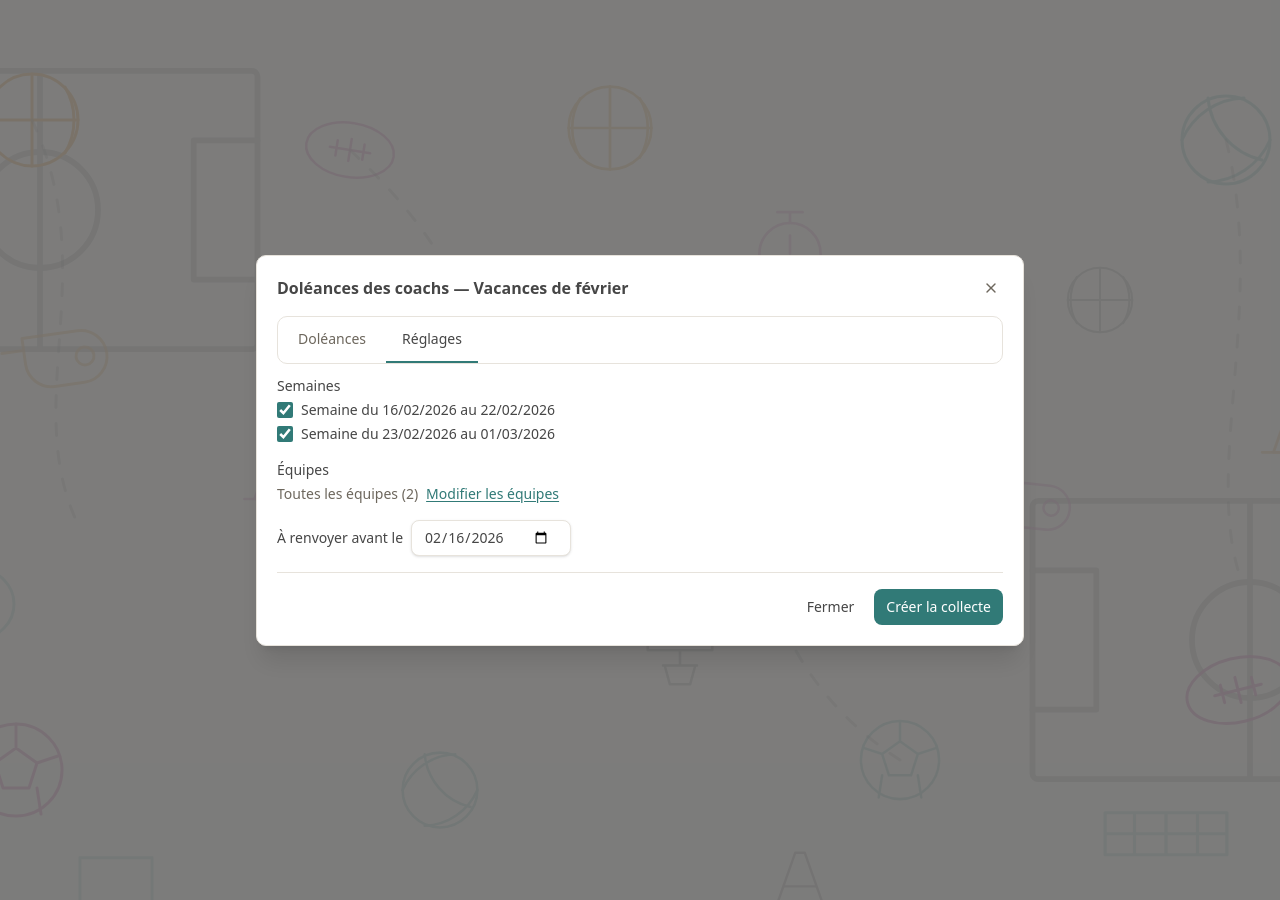
CoachWishesHub › permet de tout décocher puis de tout recocher d'un geste
Click the button "Modifier les équipes": (493, 494) [426, 484, 559, 504]
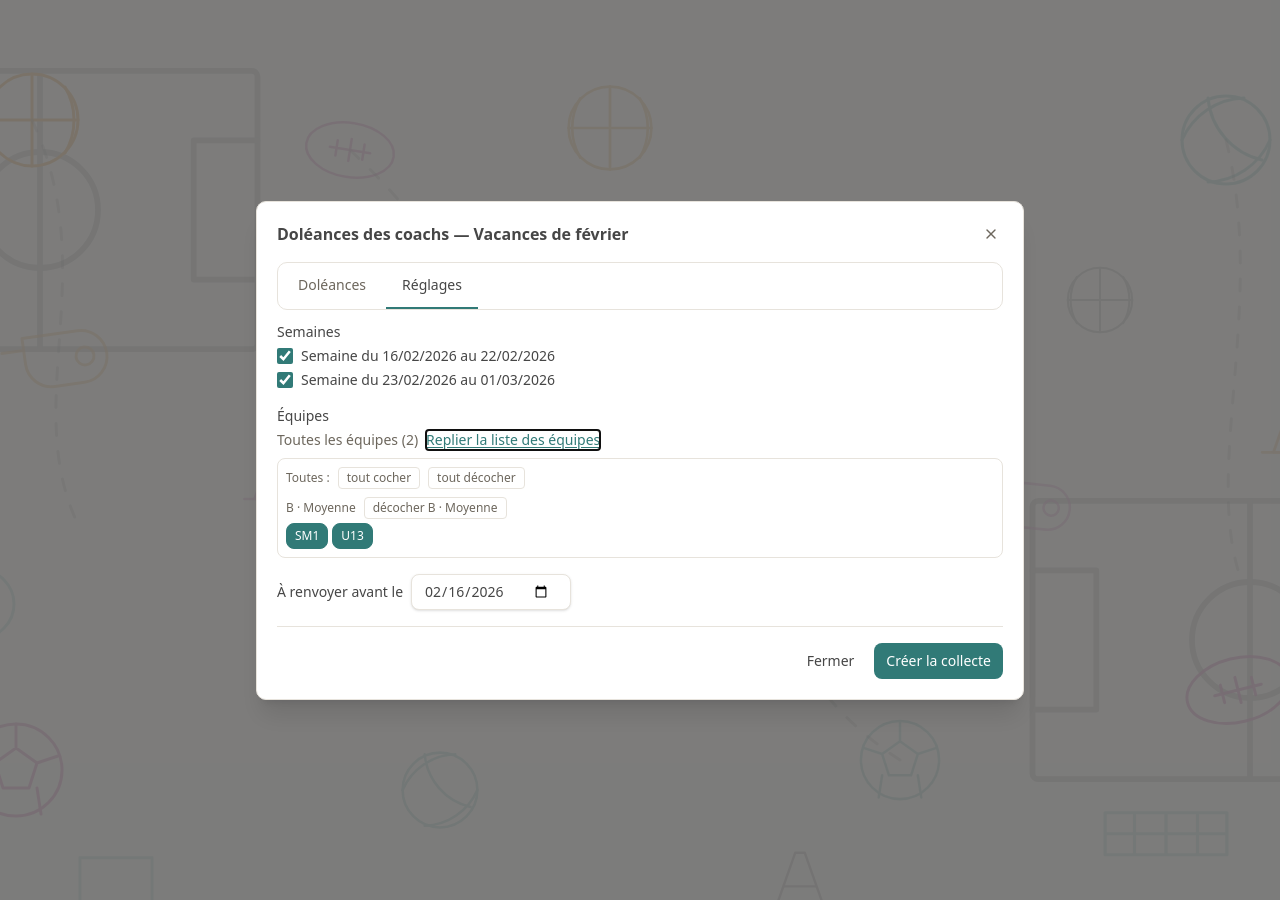
Click the button "tout décocher": (476, 478) [428, 466, 525, 488]
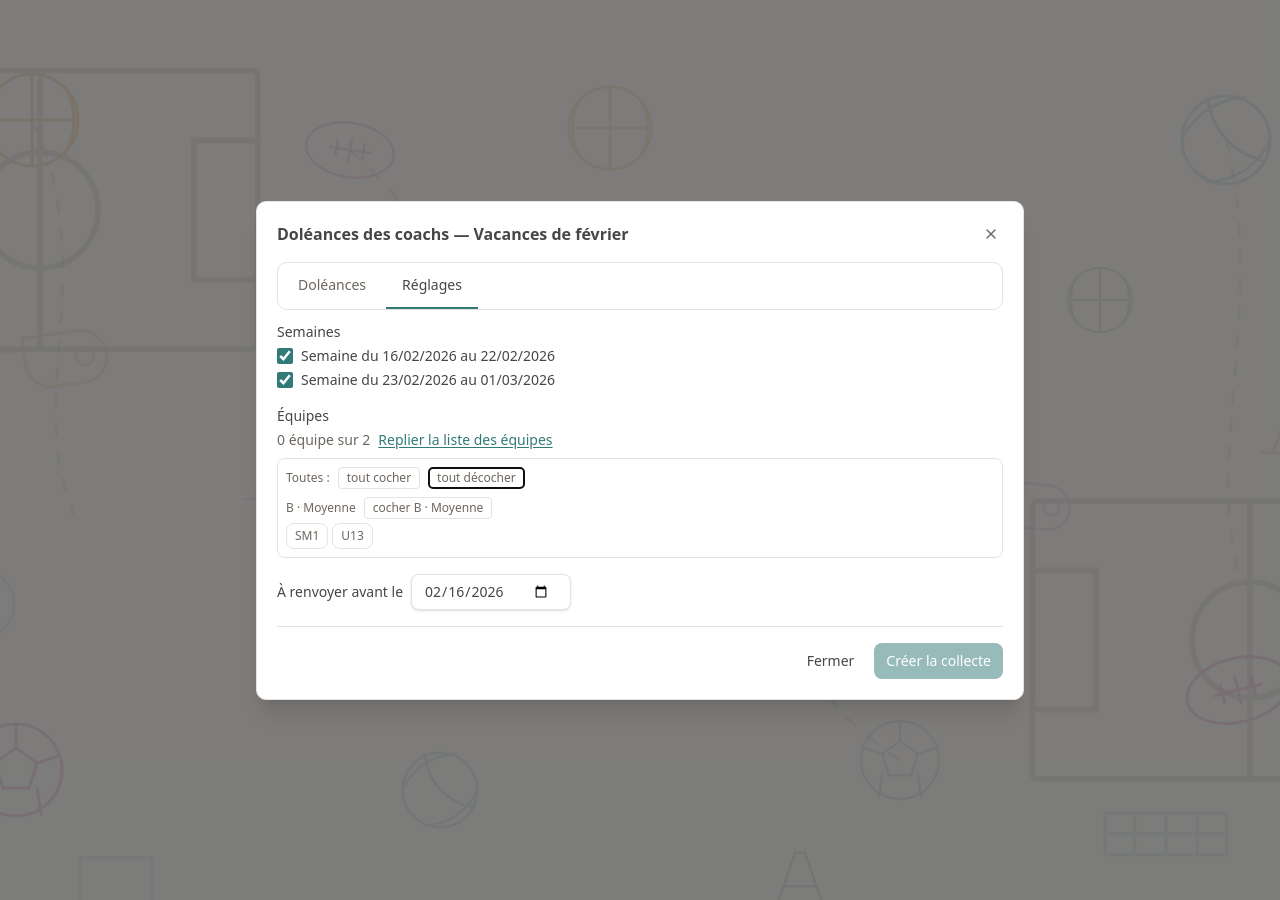
expect the text "0 équipe sur 2" is shown: met, box [277, 430, 370, 450]
expect the button "Créer la collecte" is disabled: met, box [874, 642, 1003, 678]
Click the button "tout cocher": (379, 478) [338, 466, 420, 488]
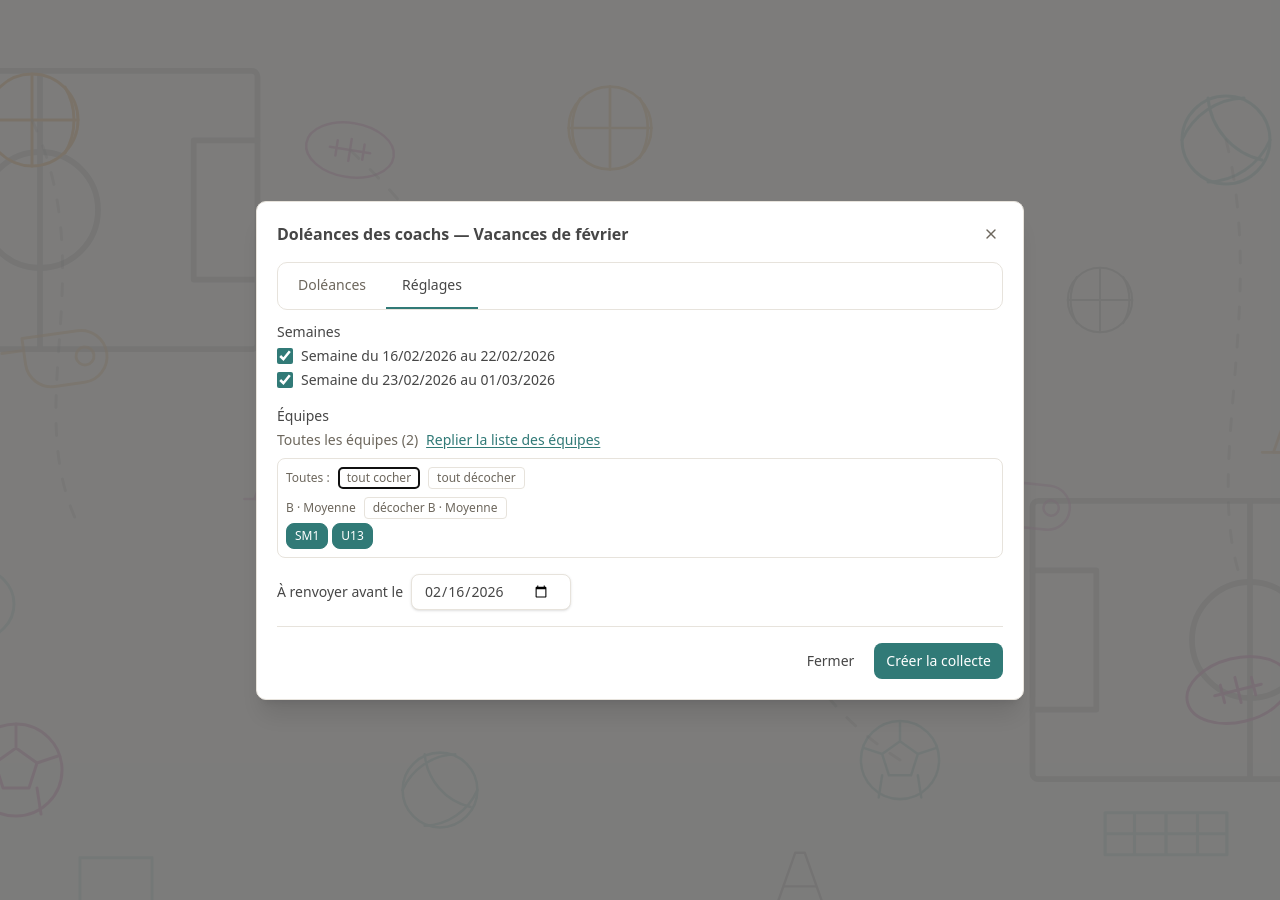
expect the text "Toutes les équipes (2)" is shown: met, box [277, 430, 418, 450]
